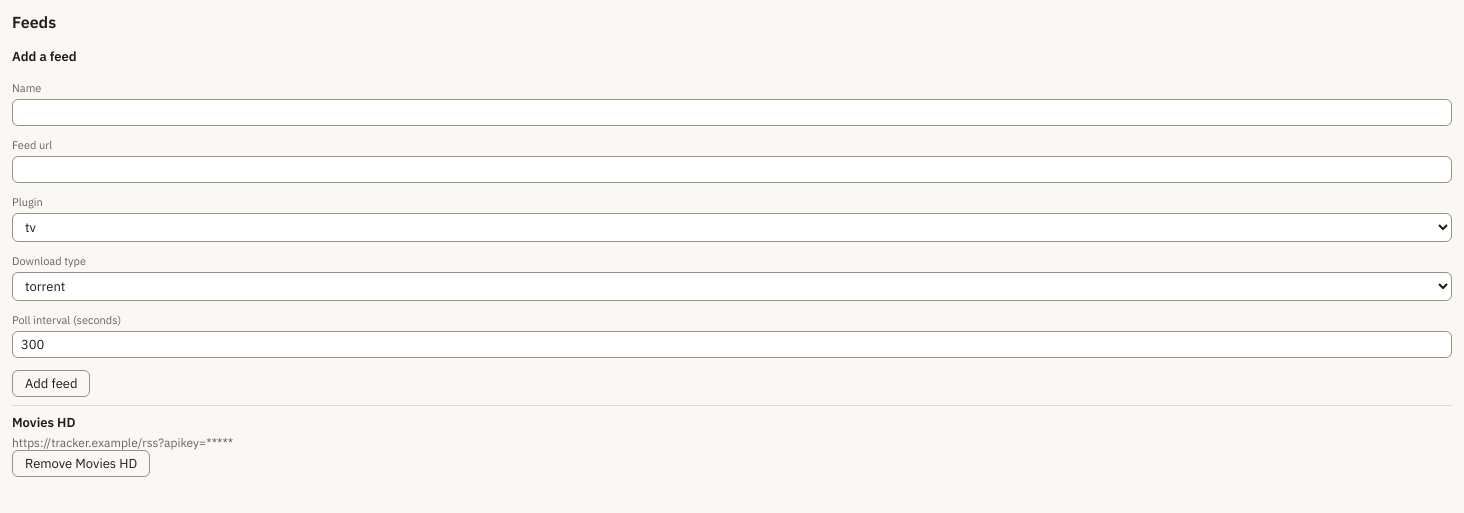
Test: a refused removal says so and leaves the control usable
What coordinates should you click on to do the following:
click the button "Remove Movies HD"
I would click on:
 (81, 464)
Its box is left=12, top=450, right=150, bottom=477.
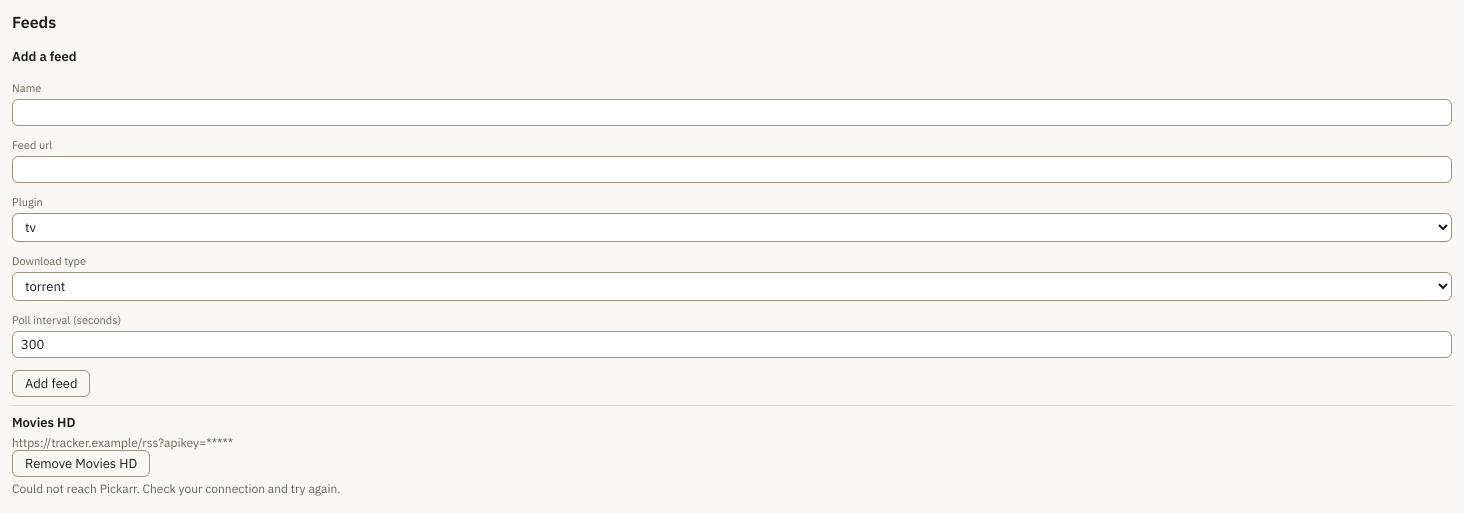
Result: the text "Could not reach Pickarr" is shown at left=12, top=481, right=341, bottom=496
